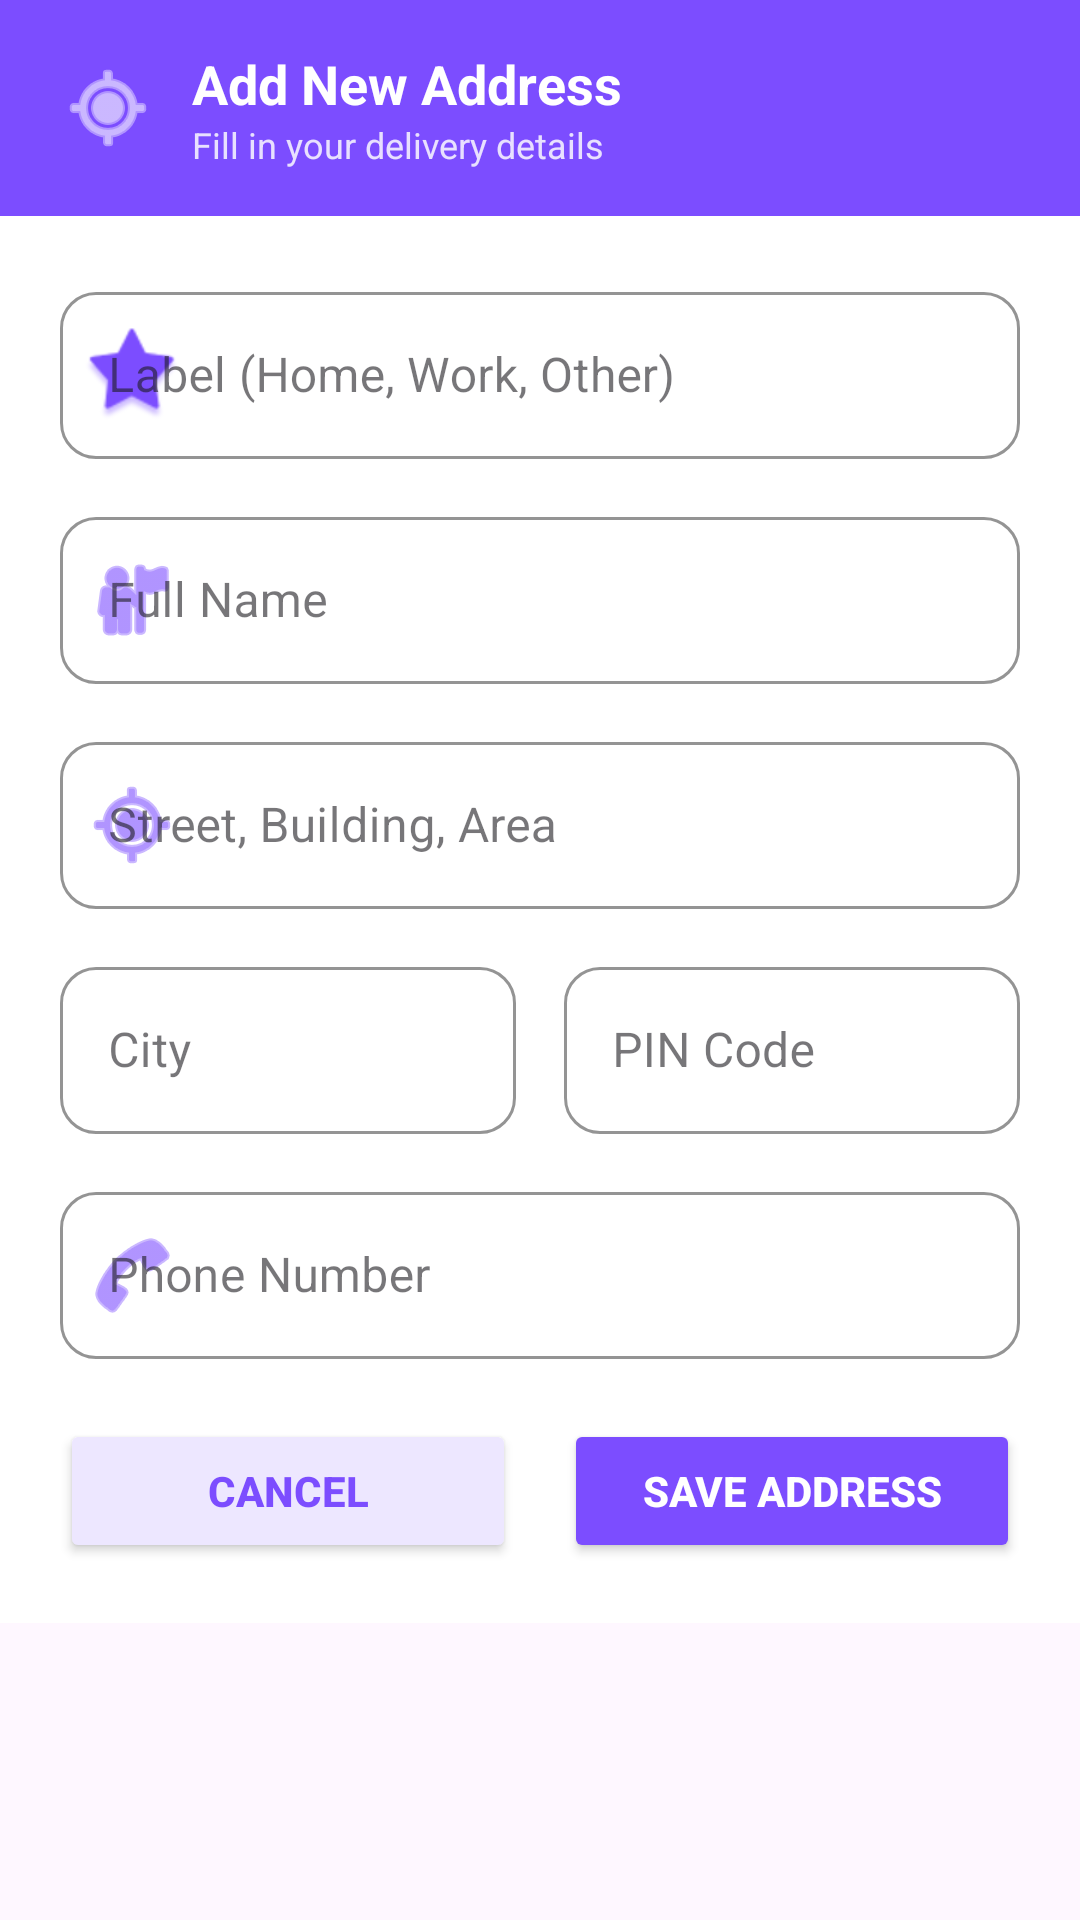

Locate icon controls on the screen. Image size 1080w x 1920h, boxes as (x1, y1, x2, y2).
mylocation: (70, 70, 146, 146)
